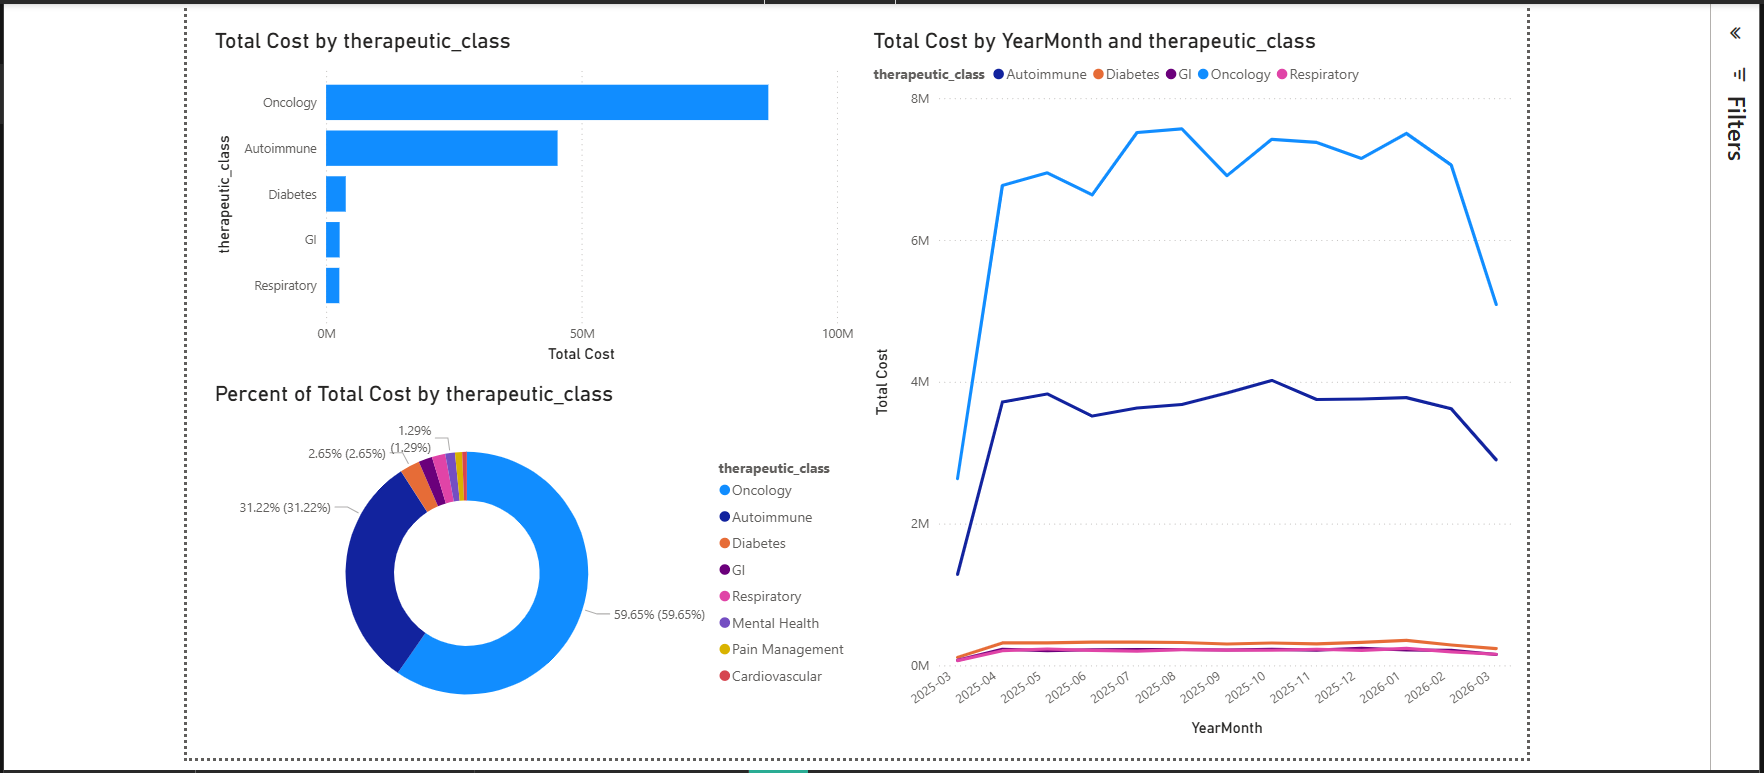

What the dashboard file says about the page in this screenshot:
{"tool":"powerbi","page":{"name":"Therapeutic Class Analysis","canvas":[1280,720],"ordinal":1},"visuals":[{"type":"clusteredBarChart","fields":{"Y":["claims.Total Cost"],"Category":["drugs.therapeutic_class"]},"box":[20.8,22.7,619.8,323.2],"z":0},{"type":"donutChart","fields":{"Y":["claims.Percent of Total Cost"],"Category":["drugs.therapeutic_class"]},"box":[20.8,359.1,619.8,343.9],"z":1000},{"type":"lineChart","fields":{"Y":["claims.Total Cost"],"Series":["drugs.therapeutic_class"],"Category":["Calendar.YearMonth"]},"box":[650.1,22.7,621.7,680.3],"z":2000}]}

Visuals, with their boxes on the page's 1280x720 design canvas (x1, y1, x2, y2). These are canvas units, not pixel positions in the 1764x773 screenshot, which may show the page scaled, cropped or inside an application window:
clusteredBarChart - claims.Total Cost x drugs.therapeutic_class: BBox(21, 23, 641, 346)
donutChart - claims.Percent of Total Cost x drugs.therapeutic_class: BBox(21, 359, 641, 703)
lineChart - claims.Total Cost x drugs.therapeutic_class: BBox(650, 23, 1272, 703)
